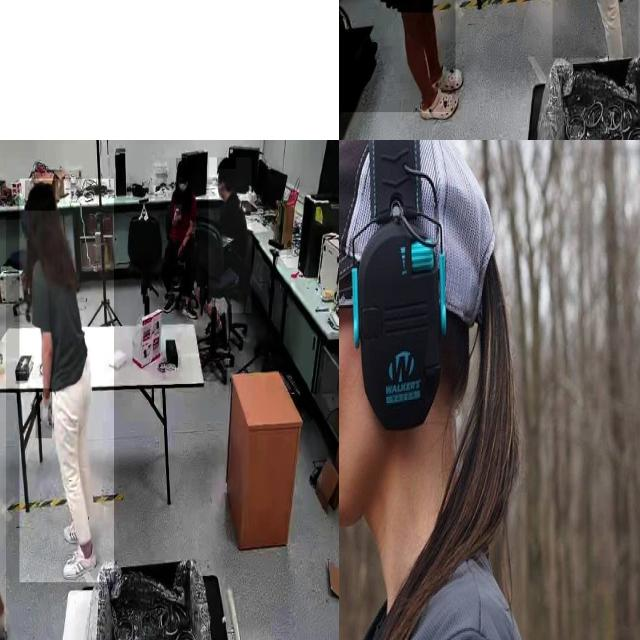Ear-protection: (350, 219, 445, 434)
face_mask: (175, 170, 189, 191)
hand_glove: (36, 389, 52, 439)
hand_noglove: (176, 242, 184, 260), (174, 204, 182, 222)
head_nohelmet: (25, 180, 56, 212), (217, 157, 237, 170), (176, 158, 190, 171)
person: (20, 179, 114, 583), (339, 0, 456, 113), (208, 157, 252, 314), (160, 157, 192, 323)
shoes: (60, 541, 100, 586), (58, 512, 88, 548)
